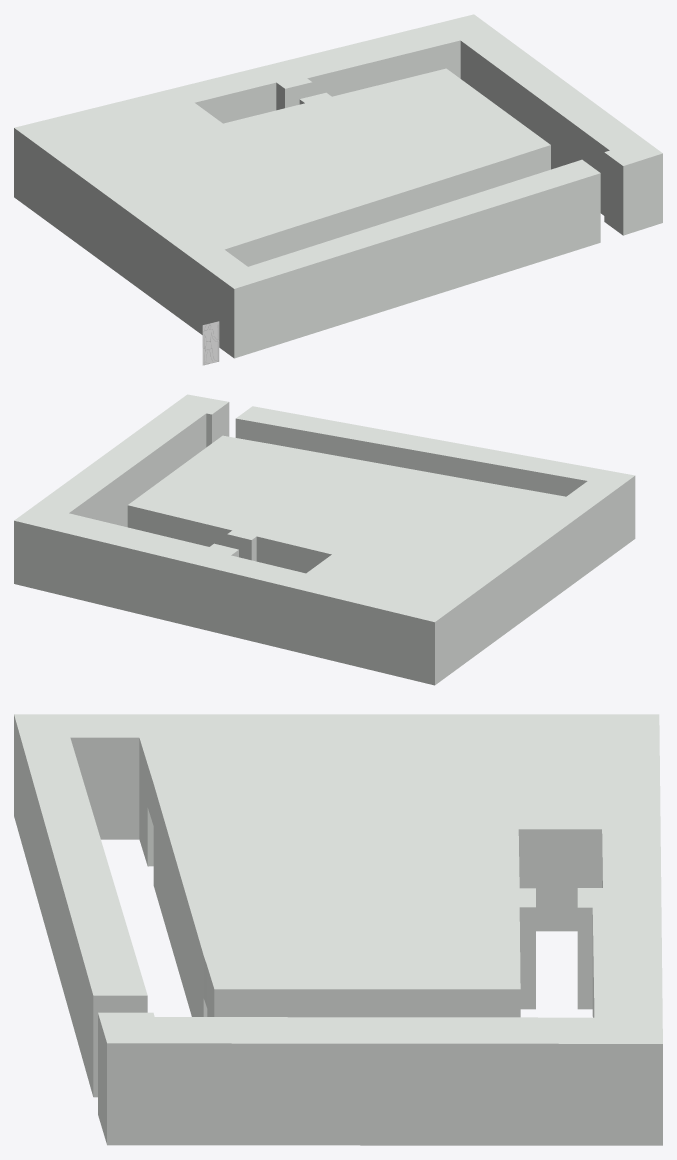
3 renders of one model, top to bottom at view 1: azimuth 30°, elevation 25°; view 2: azimuth 150°, elevation 25°; view 3: azimuth 270°, elevation 25°, orthographic. The views are drawn at different scales.
Parts seen in each view (by area): view 1: Mesh1 Model, Mesh2 Model; view 2: Mesh1 Model; view 3: Mesh1 Model.
Part boxes in pixels (x1,y1,x2,y2): Mesh1 Model: (14, 14, 662, 358); Mesh2 Model: (202, 321, 219, 365); Mesh1 Model: (14, 394, 635, 685); Mesh1 Model: (14, 714, 662, 1145).
Bounding box in the file's own units: 20.37 × 2.75 × 15.88.
Materials: 2 (2 with a texture image).
